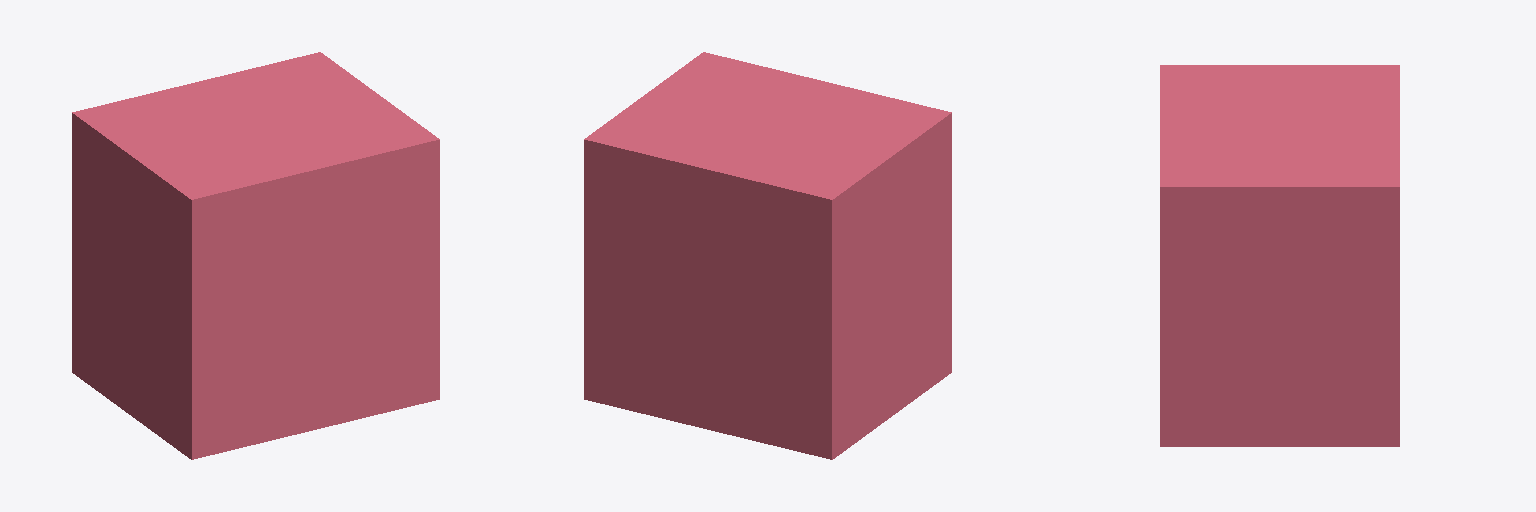
3 views of the same model, side by side, from view 1: azimuth 30°, elevation 25°; view 2: azimuth 150°, elevation 25°; view 3: azimuth 270°, elevation 25° (orthographic).
Parts seen in each view (by area): view 1: object 1; view 2: object 1; view 3: object 1.
Boxes of the visible parts, x1,y1,x2,y2 form: object 1: [72, 52, 439, 459]; object 1: [584, 52, 951, 459]; object 1: [1160, 65, 1399, 446].
Bounding box in the file's own units: 0.6 × 0.6 × 0.5.
Materials: 1 (1 with a texture image).